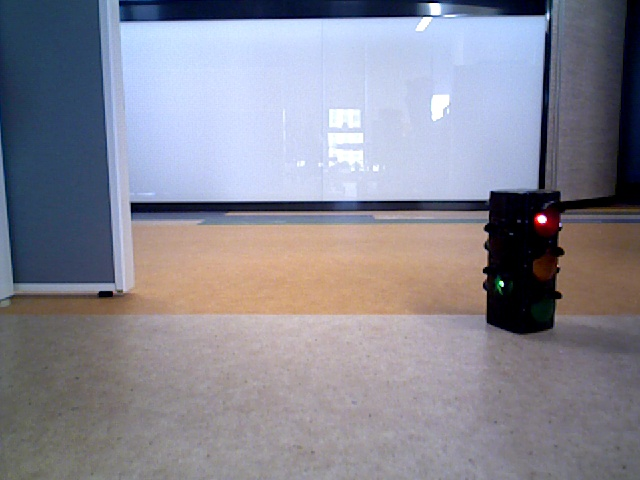red: (489, 193, 556, 329)
